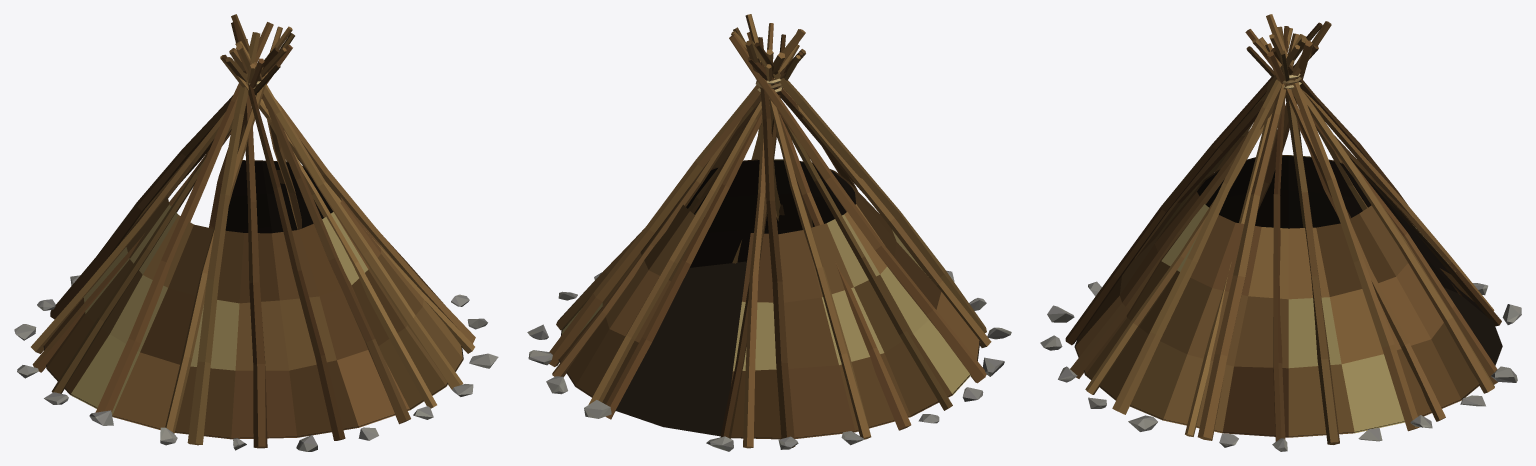
File: stick_tent_2_copertura.glb
3 views of the same model, side by side, from view 1: azimuth 30°, elevation 25°; view 2: azimuth 150°, elevation 25°; view 3: azimuth 270°, elevation 25° (orthographic).
Parts seen in each view (by area): view 1: stick_tent_2_copertura; view 2: stick_tent_2_copertura; view 3: stick_tent_2_copertura.
Boxes of the visible parts, left/top/right/bottom form: stick_tent_2_copertura: left=14, top=14, right=498, bottom=451; stick_tent_2_copertura: left=527, top=14, right=1011, bottom=451; stick_tent_2_copertura: left=1040, top=14, right=1521, bottom=451.
Bounding box in the file's own units: 4.89 × 3.69 × 4.8.
